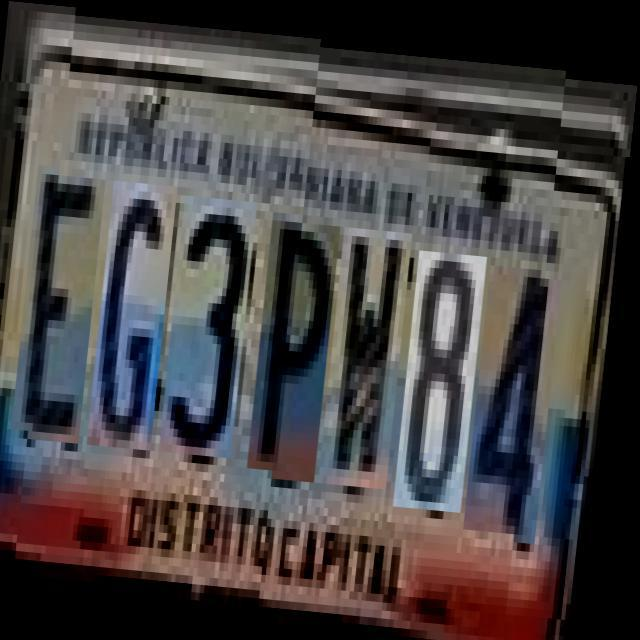3: (168, 192, 261, 452)
4: (474, 247, 568, 516)
8: (403, 233, 492, 494)
E: (20, 172, 110, 441)
G: (96, 178, 181, 447)
P: (256, 206, 346, 467)
W: (328, 212, 418, 472)
